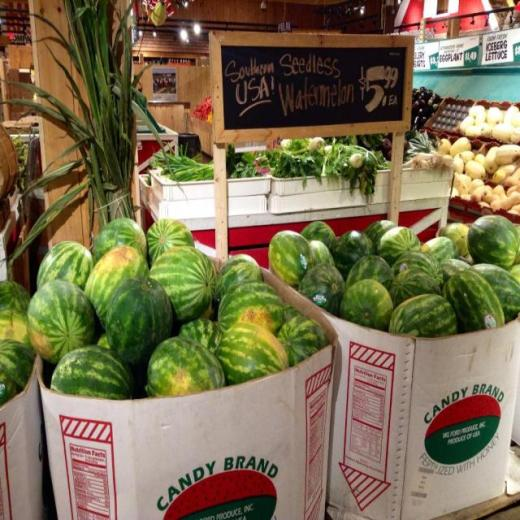Cherry: (0, 218, 329, 407), (269, 217, 520, 342)
